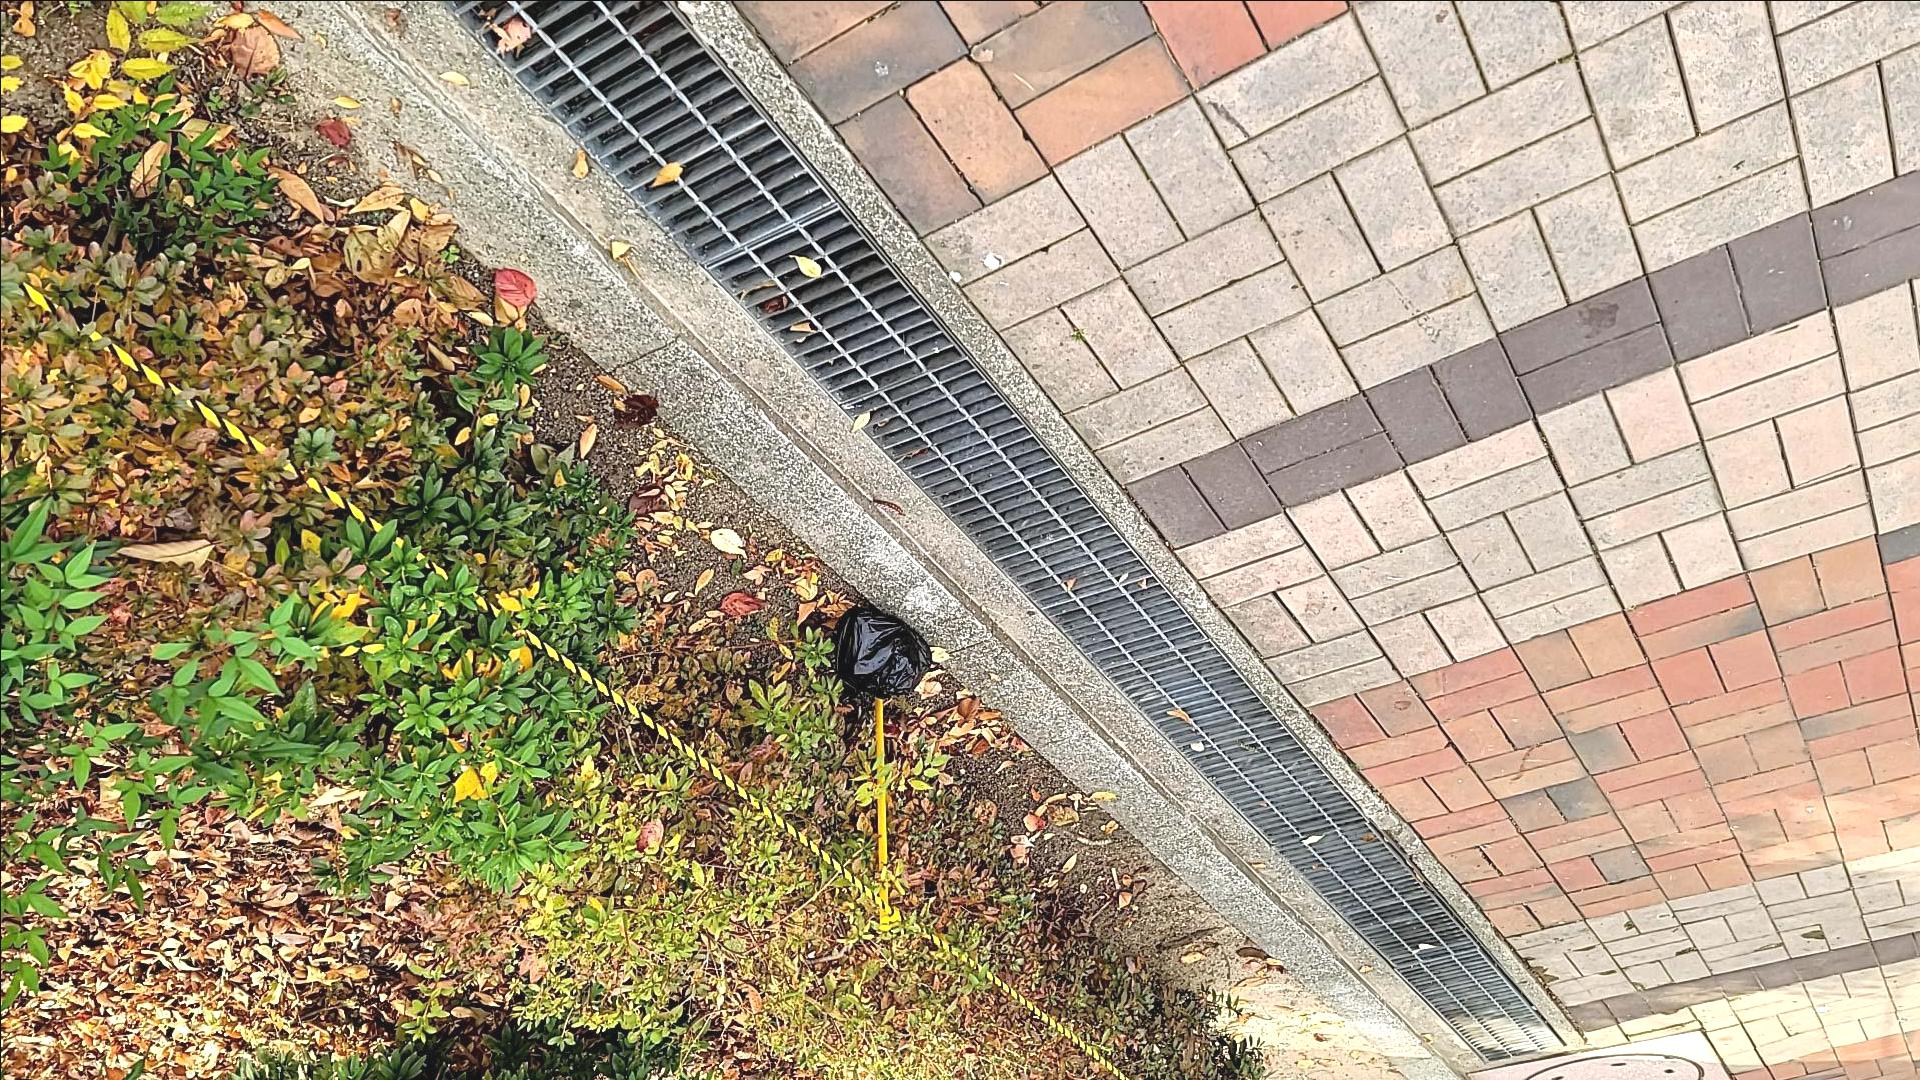black_bag: (823, 601, 939, 708)
